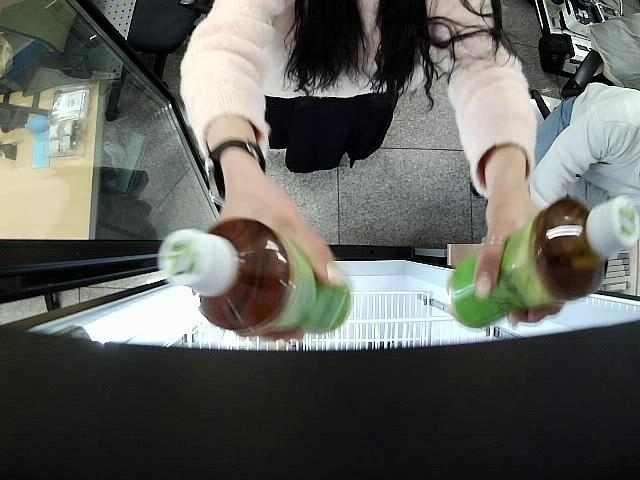19_17cha: (446, 193, 640, 332), (154, 214, 352, 336)
